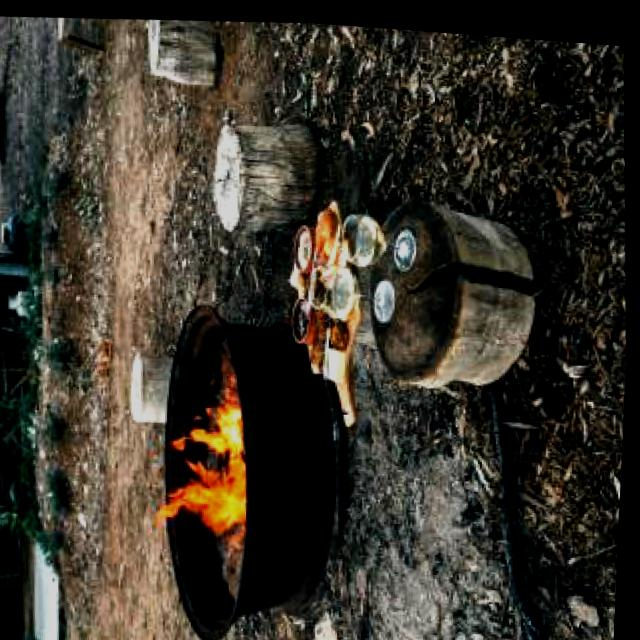Fire: (151, 363, 256, 541)
